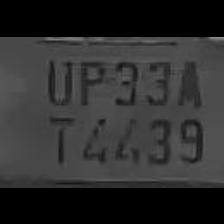3: (141, 111, 172, 167), (107, 54, 139, 106), (140, 56, 172, 106)
4: (76, 108, 108, 163), (109, 108, 138, 163)
9: (173, 113, 205, 166)
A: (172, 54, 204, 108)
P: (72, 54, 108, 108)
T: (43, 110, 75, 166)
U: (40, 52, 74, 106)
